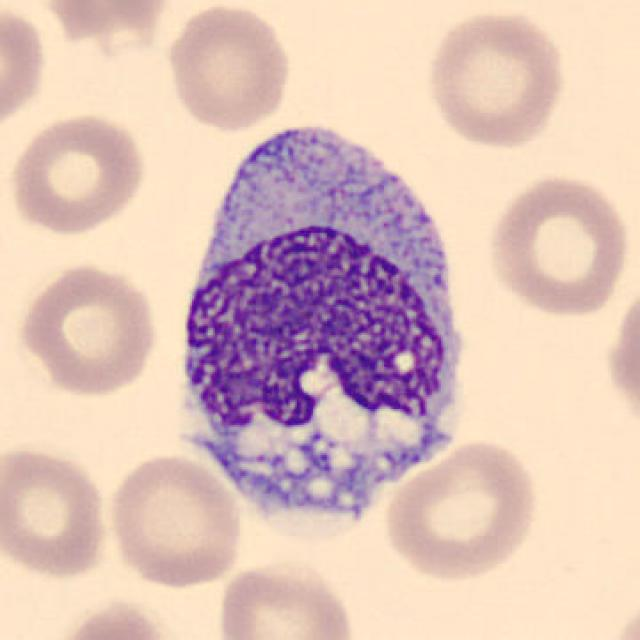Monocyte: (166, 101, 478, 527)
RBC: (379, 436, 542, 584), (482, 167, 633, 321), (421, 5, 571, 152), (14, 259, 160, 400), (103, 450, 245, 590), (5, 109, 151, 238), (162, 0, 295, 134), (0, 441, 112, 584), (213, 555, 359, 640), (32, 0, 176, 56), (0, 2, 50, 143), (602, 277, 640, 441), (44, 594, 176, 640)
